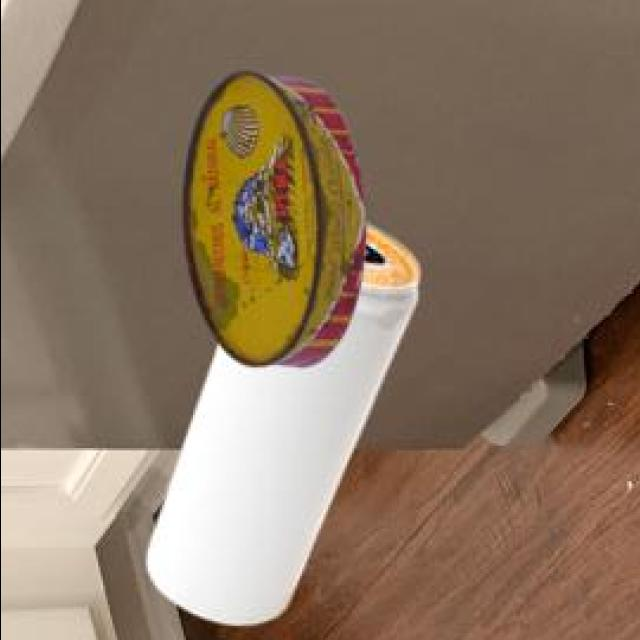logam: (143, 229, 416, 629), (179, 75, 361, 371)
